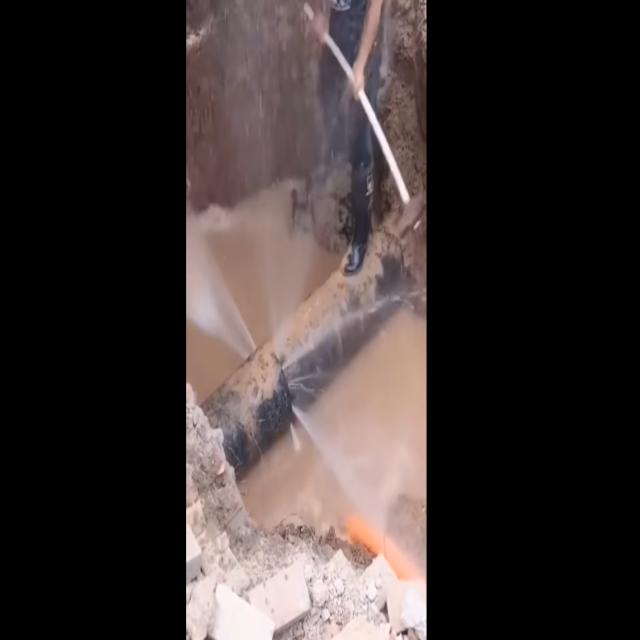leak: (285, 298, 426, 531), (186, 216, 256, 360)
